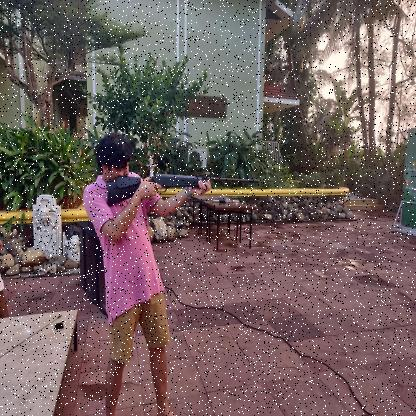rifle: (106, 170, 263, 208)
